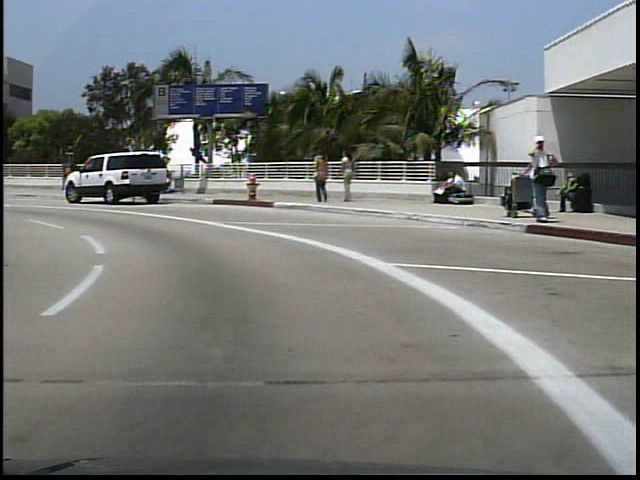person: (524, 132, 552, 224), (337, 150, 360, 207), (310, 144, 329, 206), (435, 170, 463, 207), (539, 141, 540, 222)
